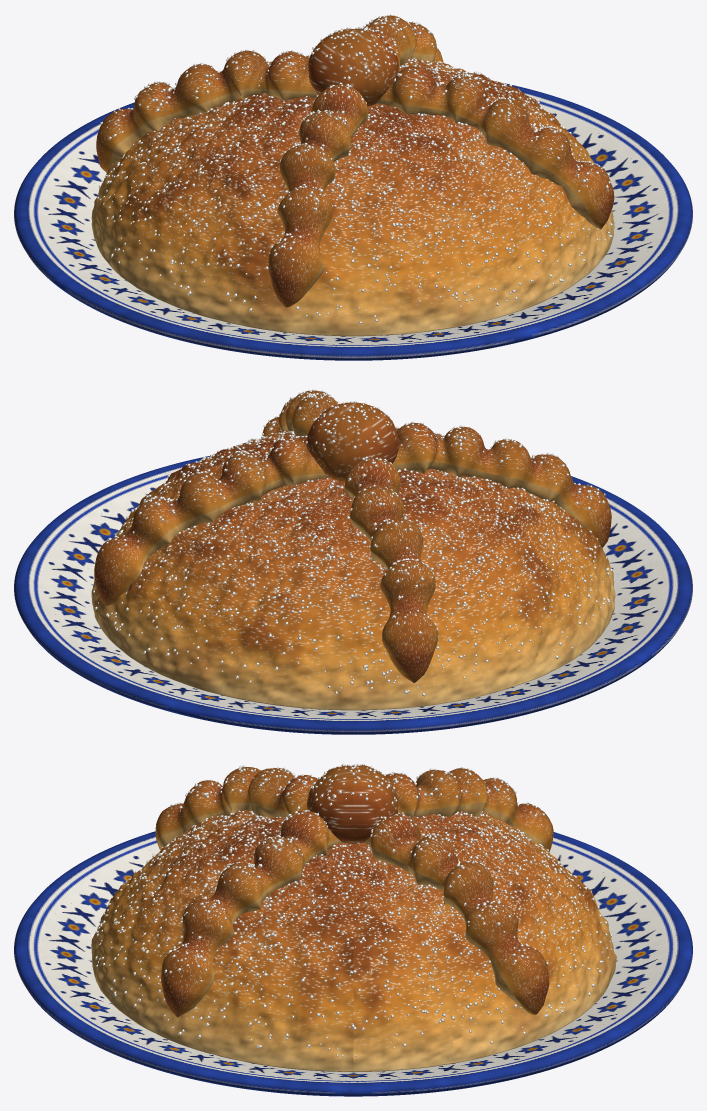
File: pan_de_muerto_hero.glb
3 views of the same model, one above another, from view 1: azimuth 30°, elevation 25°; view 2: azimuth 150°, elevation 25°; view 3: azimuth 270°, elevation 25° (orthographic).
Visible parts, largest first — view 1: pan_de_muerto_hero; view 2: pan_de_muerto_hero; view 3: pan_de_muerto_hero.
Part boxes in pixels (x1,y1,x2,y2): pan_de_muerto_hero: (14, 14, 692, 360); pan_de_muerto_hero: (14, 389, 692, 734); pan_de_muerto_hero: (14, 763, 692, 1096).
Bounding box in the file's own units: 0.26 × 0.0935 × 0.26.
Materials: 4 (3 with a texture image).
